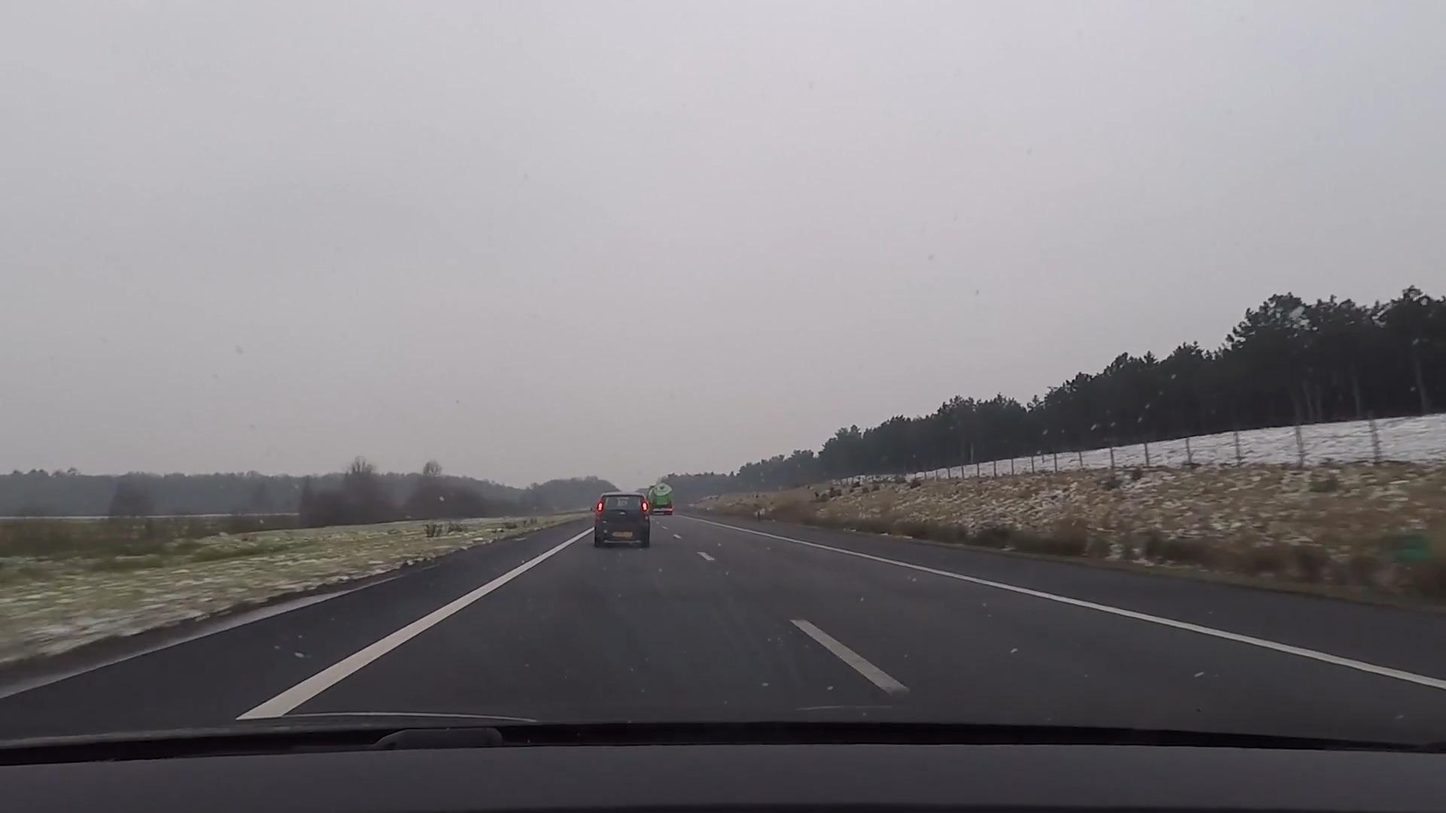Ice: (2, 510, 1445, 737)
Snow: (713, 414, 1445, 592), (1, 517, 587, 668)
